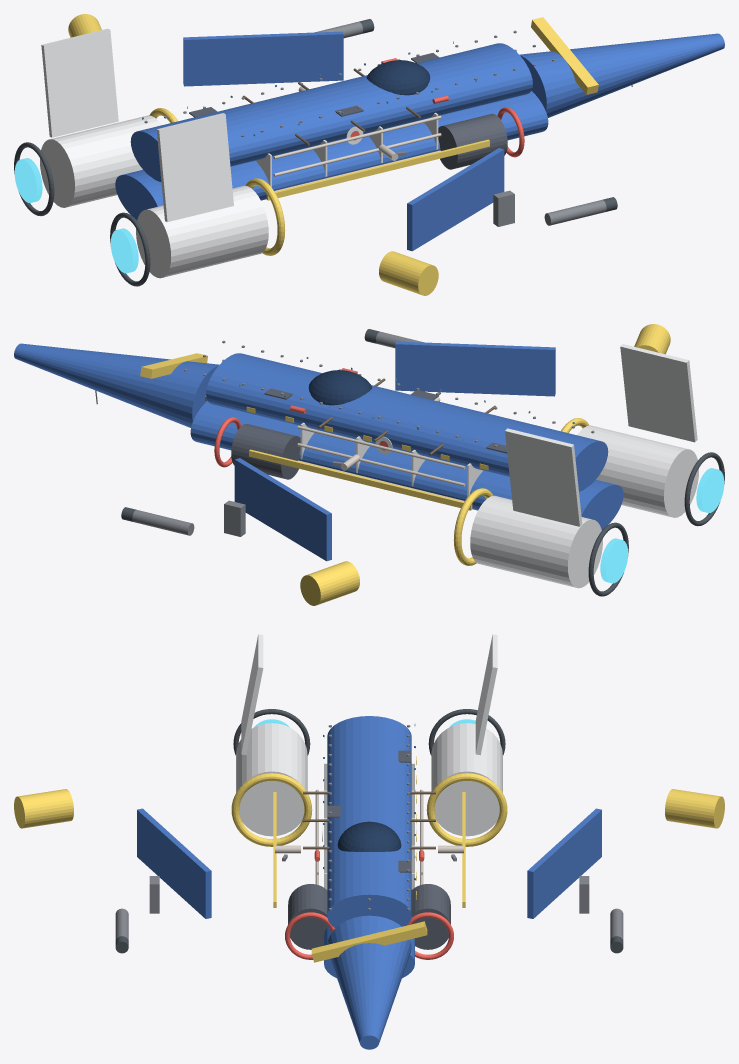
The model's file is starfighter_anime_v3.gltf.
3 renders of one model, top to bottom at view 1: azimuth 30°, elevation 25°; view 2: azimuth 150°, elevation 25°; view 3: azimuth 270°, elevation 25°, orthographic.
Visible parts, largest first — view 1: Cylinder.001, Cylinder, Cube.004, Cone, Cylinder.005, Cube.003, Cube.005, Cylinder.008, Cube.002, Cylinder.002, Cylinder.004, Cube.022 (+12 smaller); view 2: Cylinder.001, Cylinder, Cube.002, Cylinder.008, Cone, Cylinder.005, Cube.003, Cube.005, Cube.004, Cylinder.003, Cylinder.007, Cube.023 (+12 smaller); view 3: Cylinder.001, Cone, Cylinder.005, Cylinder.008, Cube.002, Cube.004, Cylinder.002, Cylinder.003, Cylinder.004, Cylinder.007, Torus.002, Torus.003 (+4 smaller).
Boxes of the visible parts, left/top/right/bottom form: Cylinder.001: left=130, top=43, right=532, bottom=181; Cylinder: left=115, top=91, right=548, bottom=220; Cube.004: left=183, top=31, right=343, bottom=86; Cone: left=519, top=33, right=724, bottom=117; Cylinder.005: left=136, top=185, right=268, bottom=278; Cube.003: left=156, top=113, right=233, bottom=221; Cube.005: left=41, top=28, right=118, bottom=137; Cylinder.008: left=40, top=115, right=161, bottom=207; Cube.002: left=407, top=148, right=504, bottom=251; Cylinder.002: left=438, top=113, right=507, bottom=169; Cylinder.004: left=379, top=251, right=438, bottom=295; Cube.022: left=266, top=139, right=489, bottom=200; Cylinder.001: left=206, top=353, right=608, bottom=491; Cylinder: left=190, top=401, right=623, bottom=530; Cube.002: left=395, top=341, right=555, bottom=396; Cylinder.008: left=470, top=495, right=602, bottom=588; Cone: left=14, top=343, right=219, bottom=427; Cylinder.005: left=577, top=425, right=698, bottom=517; Cube.003: left=620, top=344, right=697, bottom=442; Cube.005: left=505, top=428, right=582, bottom=526; Cube.004: left=234, top=458, right=331, bottom=561; Cylinder.003: left=231, top=423, right=300, bottom=479; Cylinder.007: left=300, top=561, right=359, bottom=605; Cube.023: left=249, top=449, right=472, bottom=510; Cylinder.001: left=327, top=716, right=411, bottom=927; Cone: left=327, top=915, right=411, bottom=1049; Cylinder.005: left=236, top=723, right=307, bottom=836; Cylinder.008: left=431, top=723, right=502, bottom=836; Cube.002: left=137, top=808, right=211, bottom=918; Cube.004: left=527, top=808, right=601, bottom=918; Cylinder.002: left=288, top=884, right=328, bottom=949; Cylinder.003: left=411, top=884, right=450, bottom=949; Cylinder.004: left=14, top=789, right=73, bottom=828; Cylinder.007: left=665, top=789, right=724, bottom=828; Torus.002: left=231, top=773, right=312, bottom=846; Torus.003: left=426, top=773, right=507, bottom=846.
Bounding box in the file's own units: 11.65 × 2.67 × 10.92.
